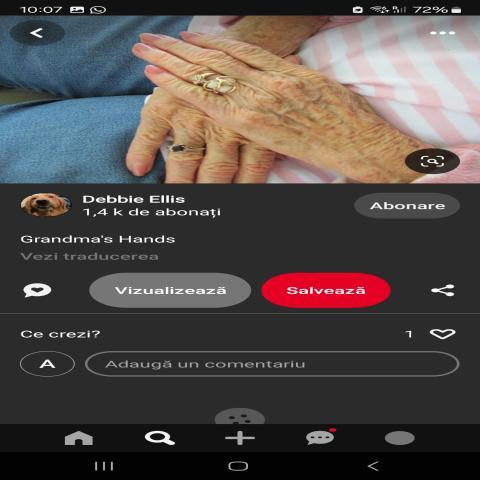Hands: (126, 16, 435, 172), (114, 87, 278, 185)
